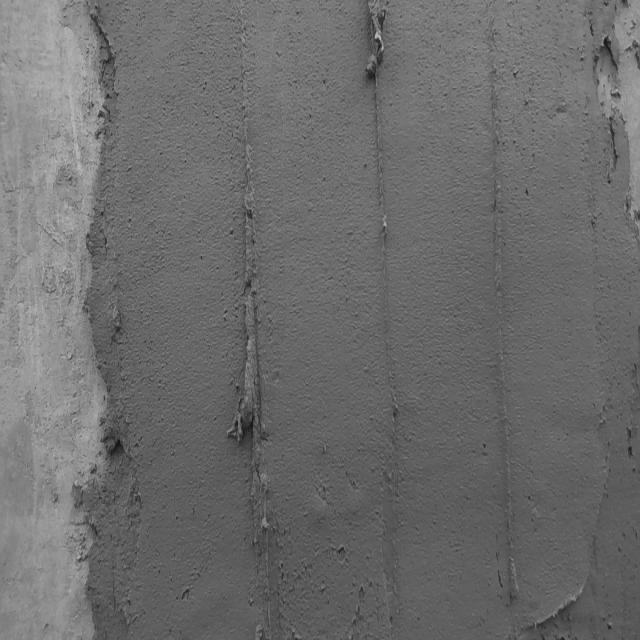trowels marks: (228, 3, 275, 640), (361, 2, 406, 640), (481, 3, 526, 639)
